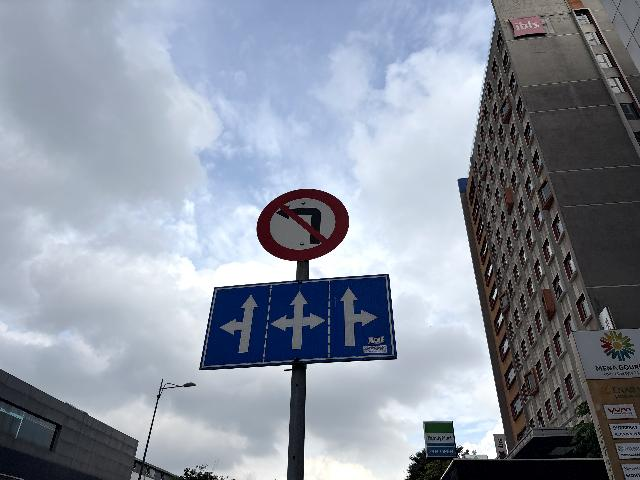cam-re-trai: (256, 187, 350, 262)
